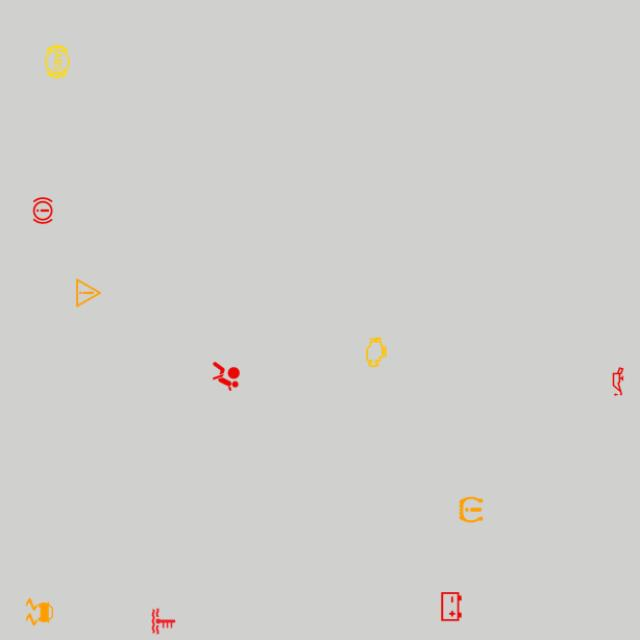Anti Lock Braking System: (40, 44, 75, 79)
Braking System Issue: (25, 193, 60, 228)
Charging System Issue: (434, 589, 469, 624)
Check Engine: (359, 335, 394, 370)
Electronic Stability Problem -ESP-: (22, 594, 57, 630)
Engine Overheating Warning Light: (146, 603, 181, 639)
Low Engine Oil Warning Light: (600, 364, 636, 399)
Low Tire Pressure Warning Light: (453, 492, 489, 527)
Master warning light: (71, 275, 106, 311)
SRS-Airbag: (208, 359, 244, 394)
